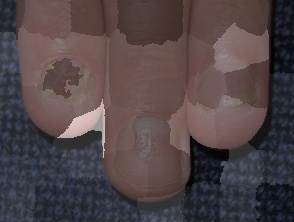Nail_psoriasis: (92, 84, 200, 206), (189, 26, 266, 128), (30, 34, 100, 124)
